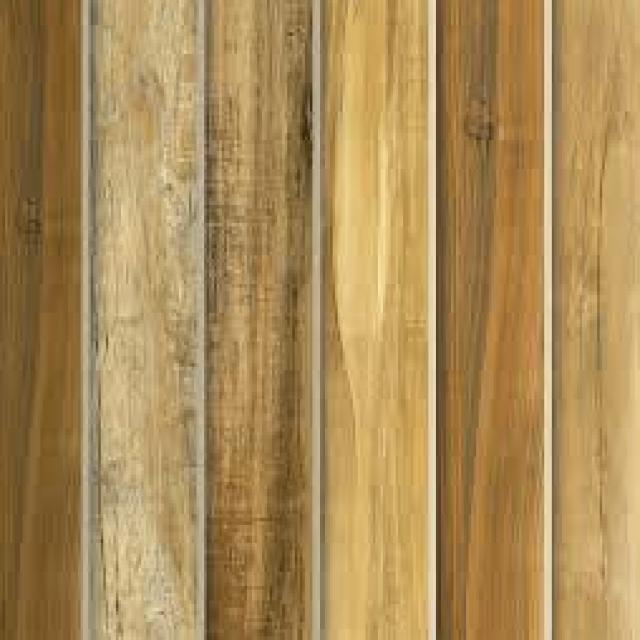perfect-wooden-plate: (91, 0, 204, 640), (437, 0, 544, 640), (324, 0, 427, 640), (207, 0, 309, 640), (553, 0, 640, 640)
